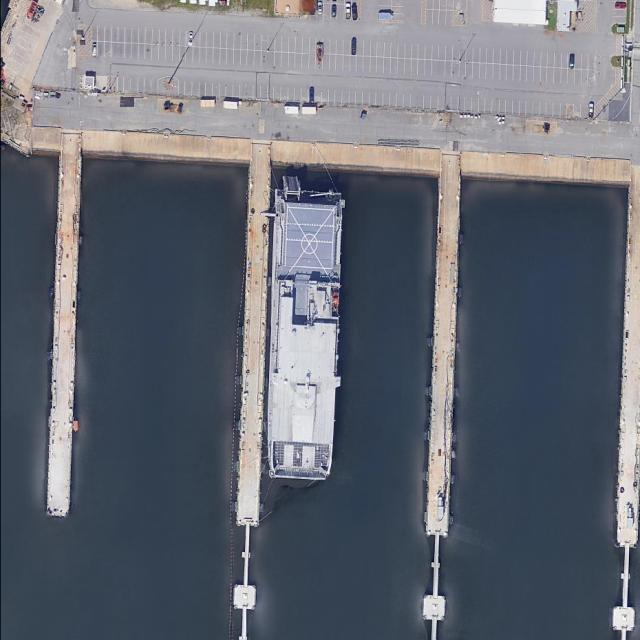Auxiliary Ships: (261, 188, 348, 481)
Dock: (424, 176, 462, 534), (46, 152, 83, 514), (234, 162, 270, 524)
